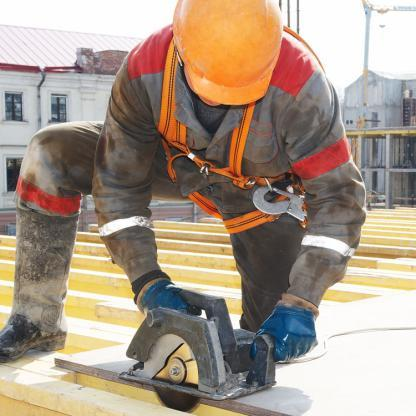bota: (0, 307, 70, 369)
capacete: (154, 0, 292, 112)
